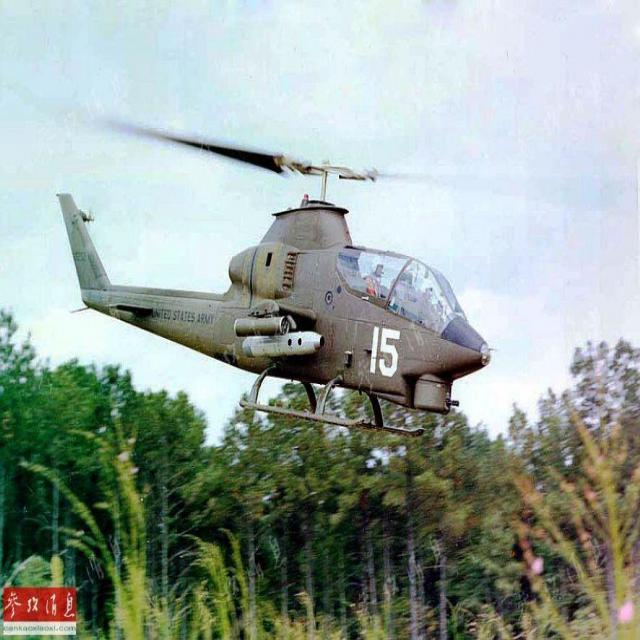MIL_HELO: (34, 101, 602, 452)
